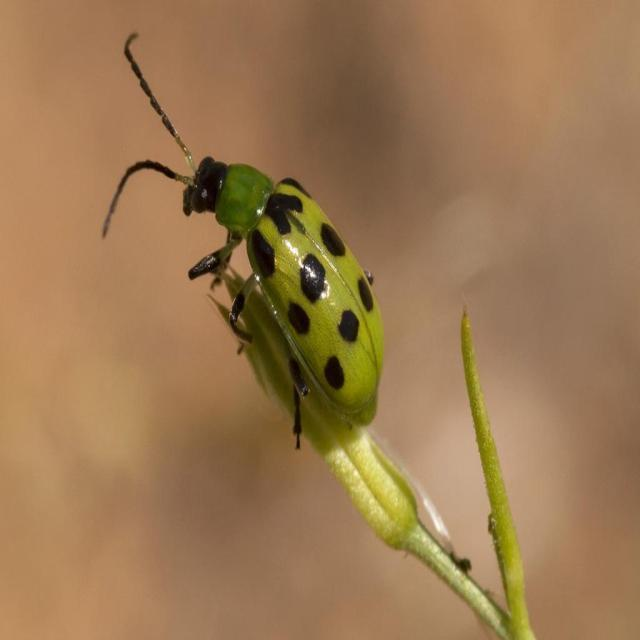gusano_verde: (104, 28, 385, 450)
